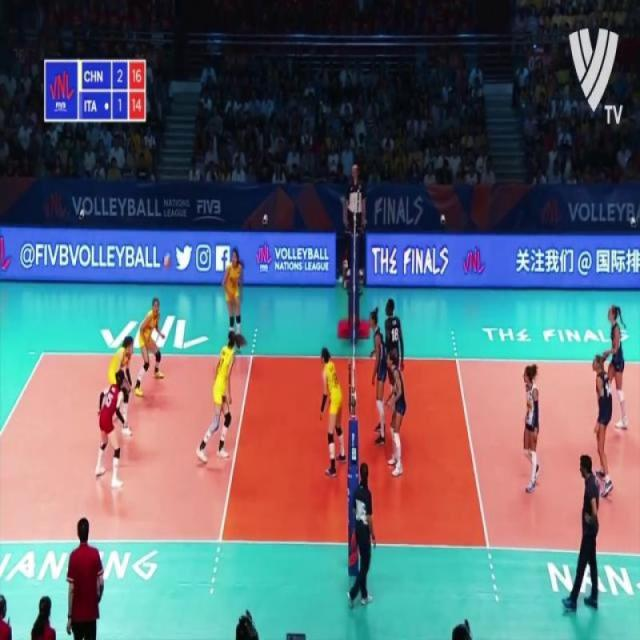volleyball: (162, 251, 170, 271)
